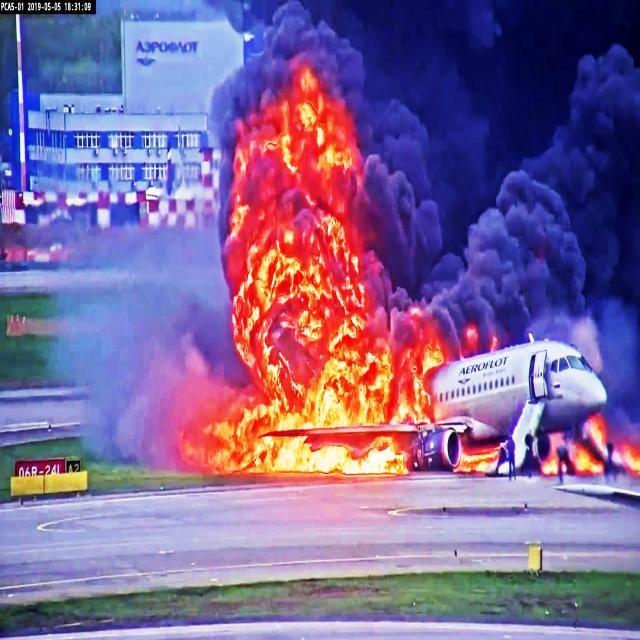Fire: (244, 92, 349, 390), (196, 406, 391, 472), (329, 329, 416, 427)
Smoke: (464, 168, 574, 330)
